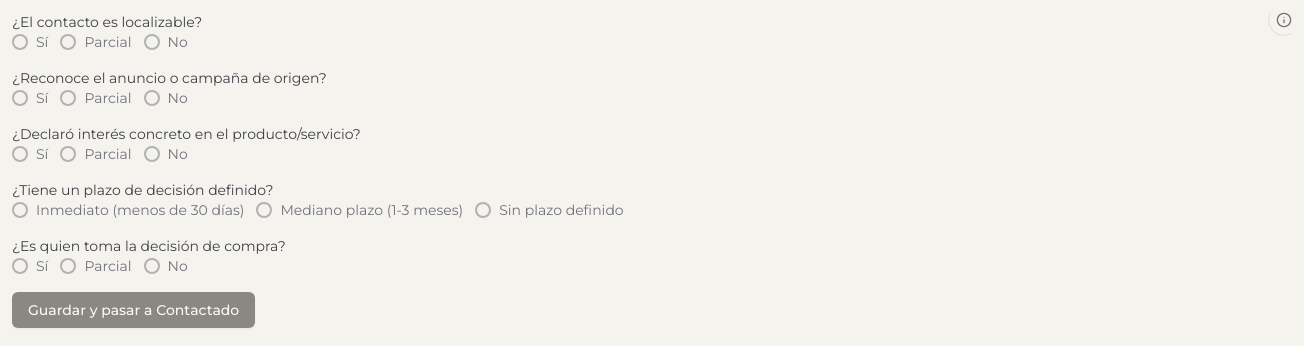
Test: FormularioEtapaLead — migración a React Hook Form + Zod (AGENTS.md §4) › el botón de envío está deshabilitado hasta responder todas las preguntas (isValid de RHF/Zod reemplaza a todasRespondidas)
Expected: the text "¿El contacto es localizable?" is shown, [12, 12, 202, 32]
Expected: the button "Guardar y pasar a Contactado" is disabled, [12, 292, 255, 328]
Click the radio button labelled "Sí" below "¿El contacto es localizable?": (20, 42) [12, 34, 28, 50]
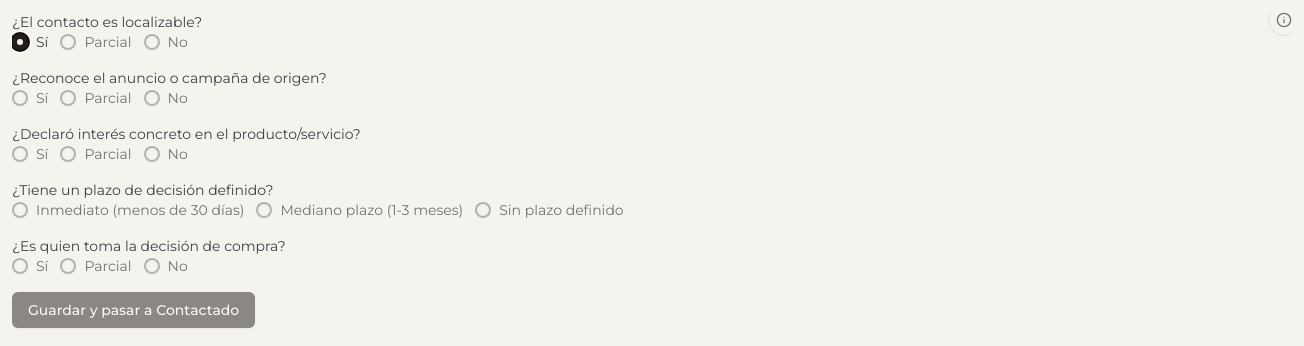
Click the 2nd radio button labelled "Sí": (20, 98) [12, 90, 28, 106]
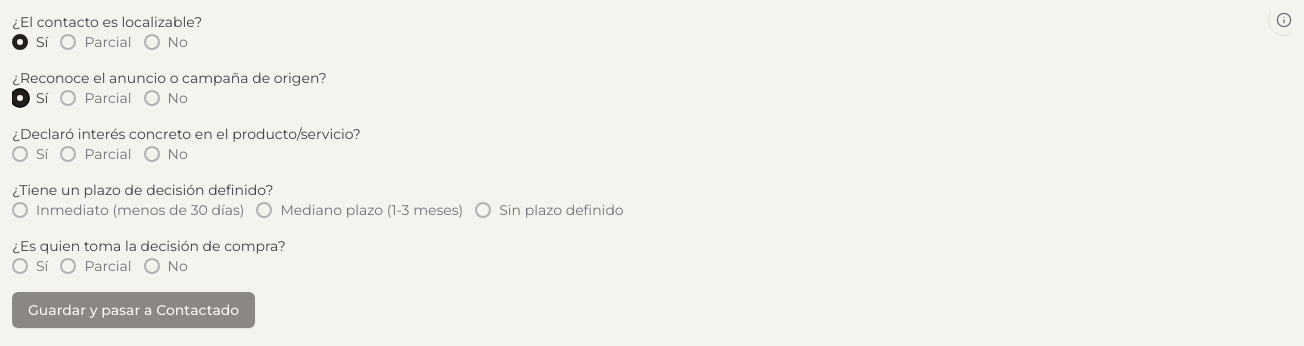
Click the 3rd radio button labelled "Sí": (20, 154) [12, 146, 28, 162]
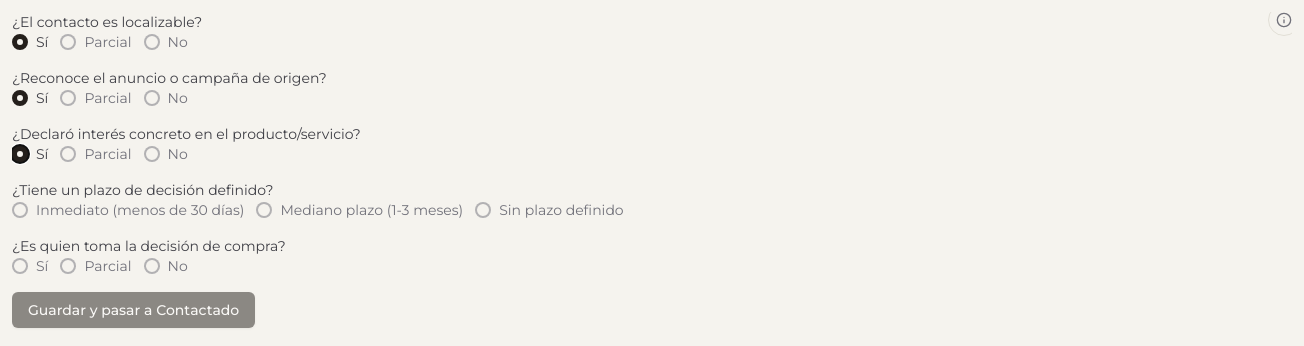
Click the radio button labelled "Inmediato (menos de 30 días)": (20, 210) [12, 202, 28, 218]
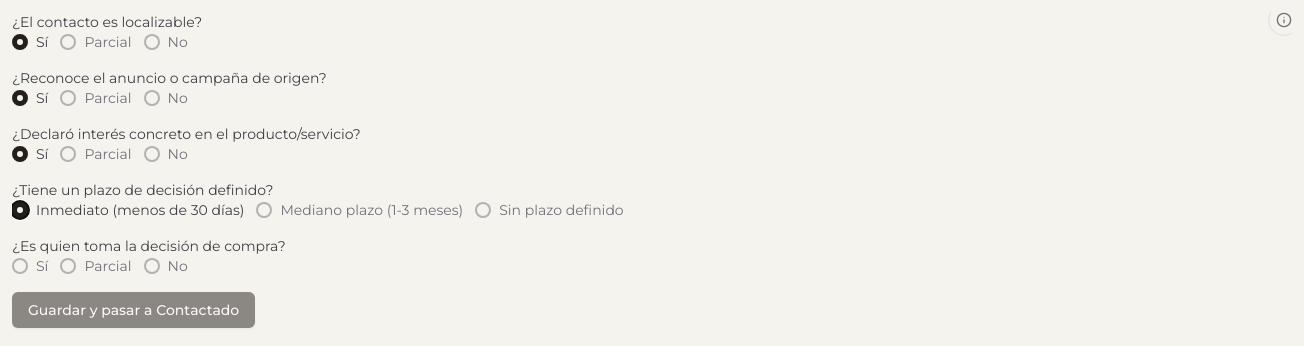
Expected: the button "Guardar y pasar a Contactado" is disabled, [12, 292, 255, 328]
Click the radio button labelled "Sí" below "¿Es quien toma la decisión de compra?": (20, 266) [12, 258, 28, 274]
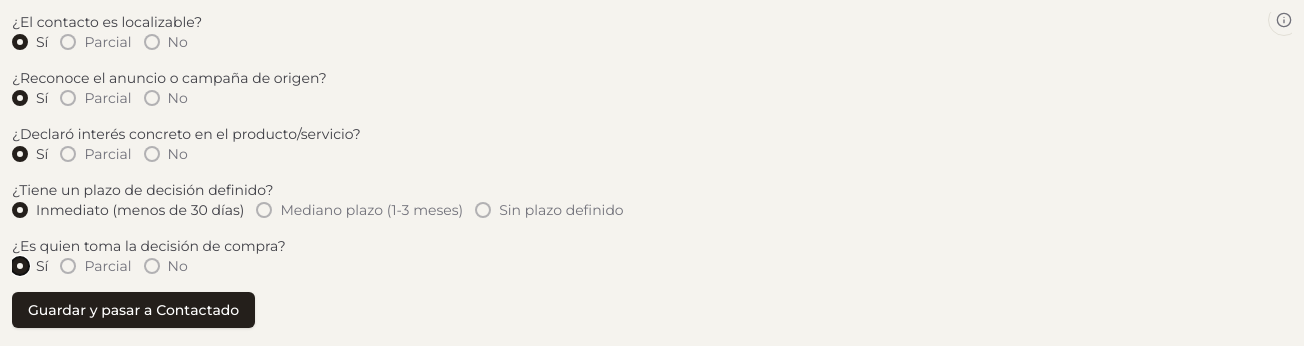
Expected: the button "Guardar y pasar a Contactado" is enabled, [12, 292, 255, 328]
